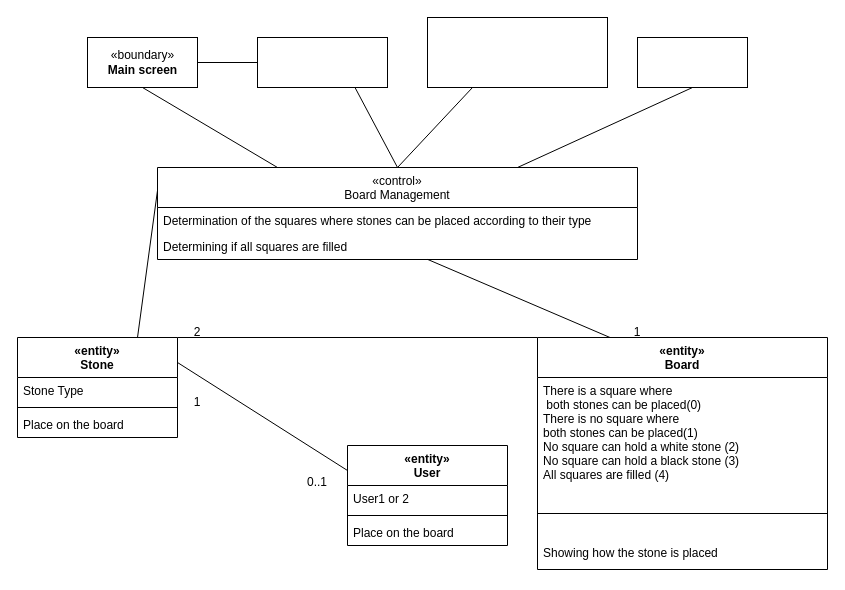
This 845x590 diagram has some shape labels left out. Here are the shapes that lost their labels. From the top down, the centre of each, then its label:
(322,62): «boundary» Board display screen
(517,52): «boundary» Screen displaying the squares where you can place them
(692,62): «boundary» Game end screen
